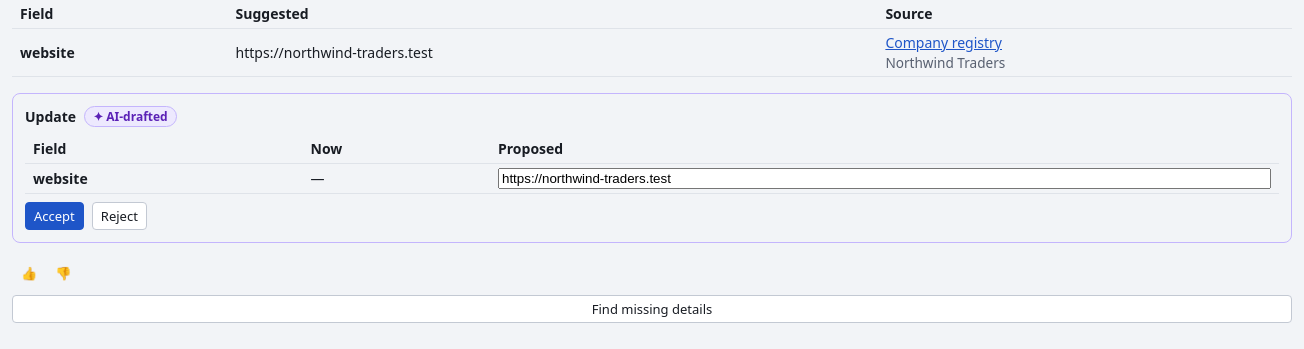
Scenario: contacts AI client › queues enrichment in the background and shows each value with its source
This screenshot has width=1304, height=349.
Expected: the text "Update" is shown once, [25,107,76,127]
Click the button "Find missing details": (652, 309) [12,295,1292,323]
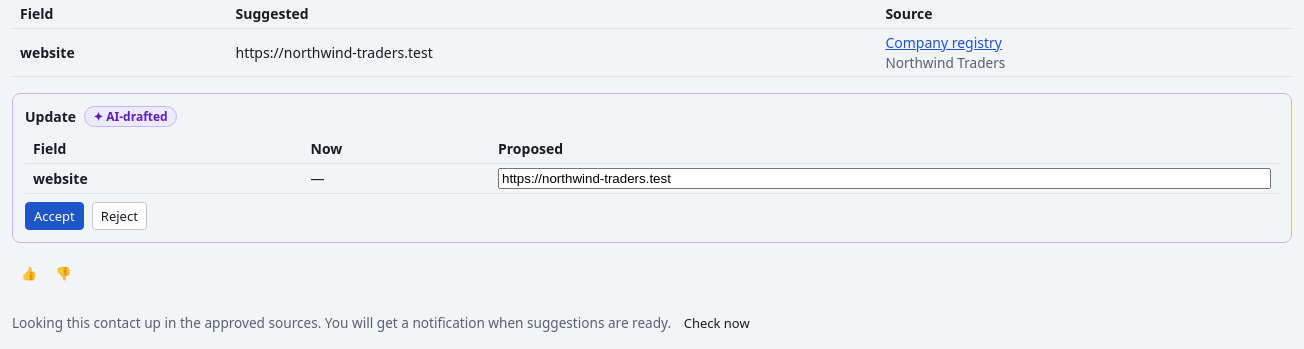
Now the text "You will get a notification" is shown, box [12,312,671,332]
